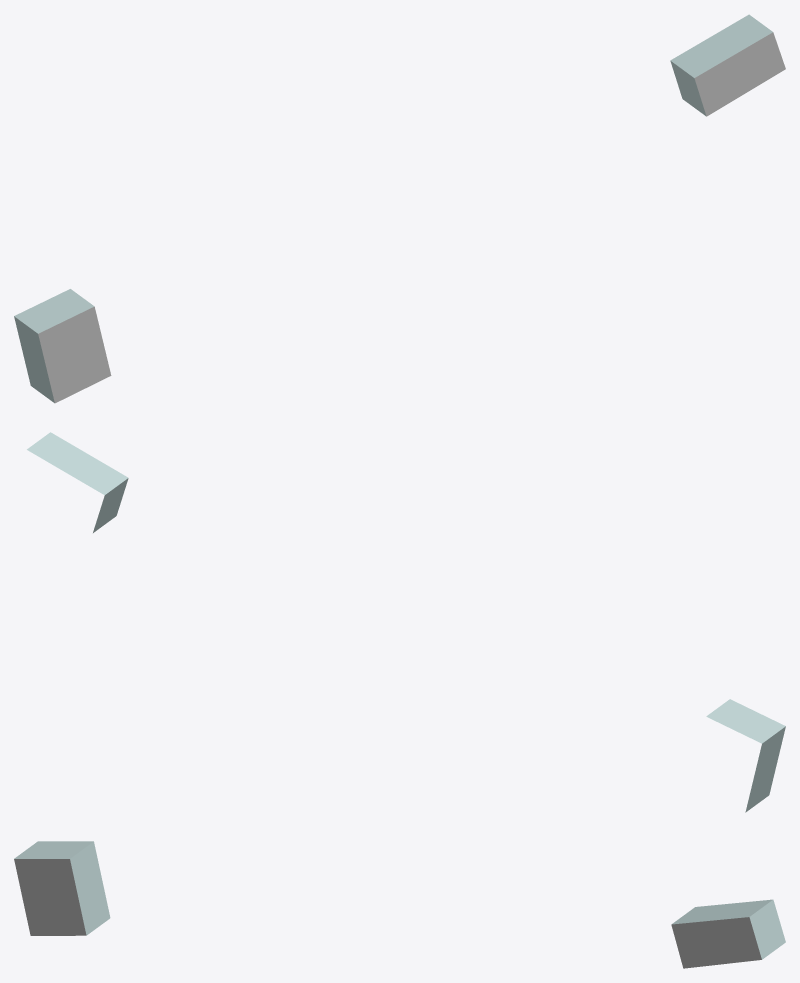
The picture shows the model from 3 angles, top to bottom: view 1: azimuth 30°, elevation 25°; view 2: azimuth 150°, elevation 25°; view 3: azimuth 330°, elevation 25°; orthographic projection.
Parts seen in each view (by area): view 1: 0_2_2_3_1_1_2_3_3; view 2: 0_2_2_3_1_1_2_3_3; view 3: 0_2_2_3_1_1_2_3_3.
Boxes of the visible parts, x1,y1,x2,y2 form: 0_2_2_3_1_1_2_3_3: [14, 14, 785, 403]; 0_2_2_3_1_1_2_3_3: [27, 432, 785, 812]; 0_2_2_3_1_1_2_3_3: [14, 841, 785, 968].
Bounding box in the file's own units: 53.83 × 13.2 × 3.43.
